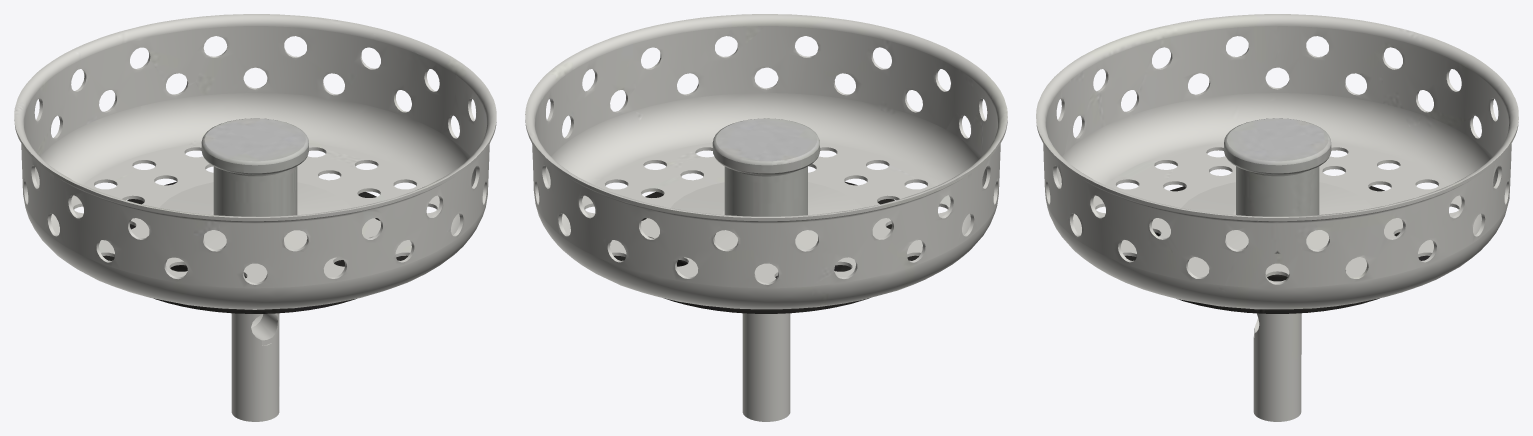
File: lillviken_korek_do_zlewu_70311541.glb
3 renders of one model, left to right at view 1: azimuth 30°, elevation 25°; view 2: azimuth 150°, elevation 25°; view 3: azimuth 270°, elevation 25°, orthographic.
Visible parts, largest first — view 1: lillviken_korek_do_zlewu_70311541; view 2: lillviken_korek_do_zlewu_70311541; view 3: lillviken_korek_do_zlewu_70311541.
Part boxes in pixels (bbox=[...]): lillviken_korek_do_zlewu_70311541: bbox=[14, 14, 496, 421]; lillviken_korek_do_zlewu_70311541: bbox=[525, 14, 1007, 421]; lillviken_korek_do_zlewu_70311541: bbox=[1036, 14, 1518, 421].
Bounding box in the file's own units: 0.0809 × 0.0547 × 0.0809.
Materials: 1 (1 with a texture image).
